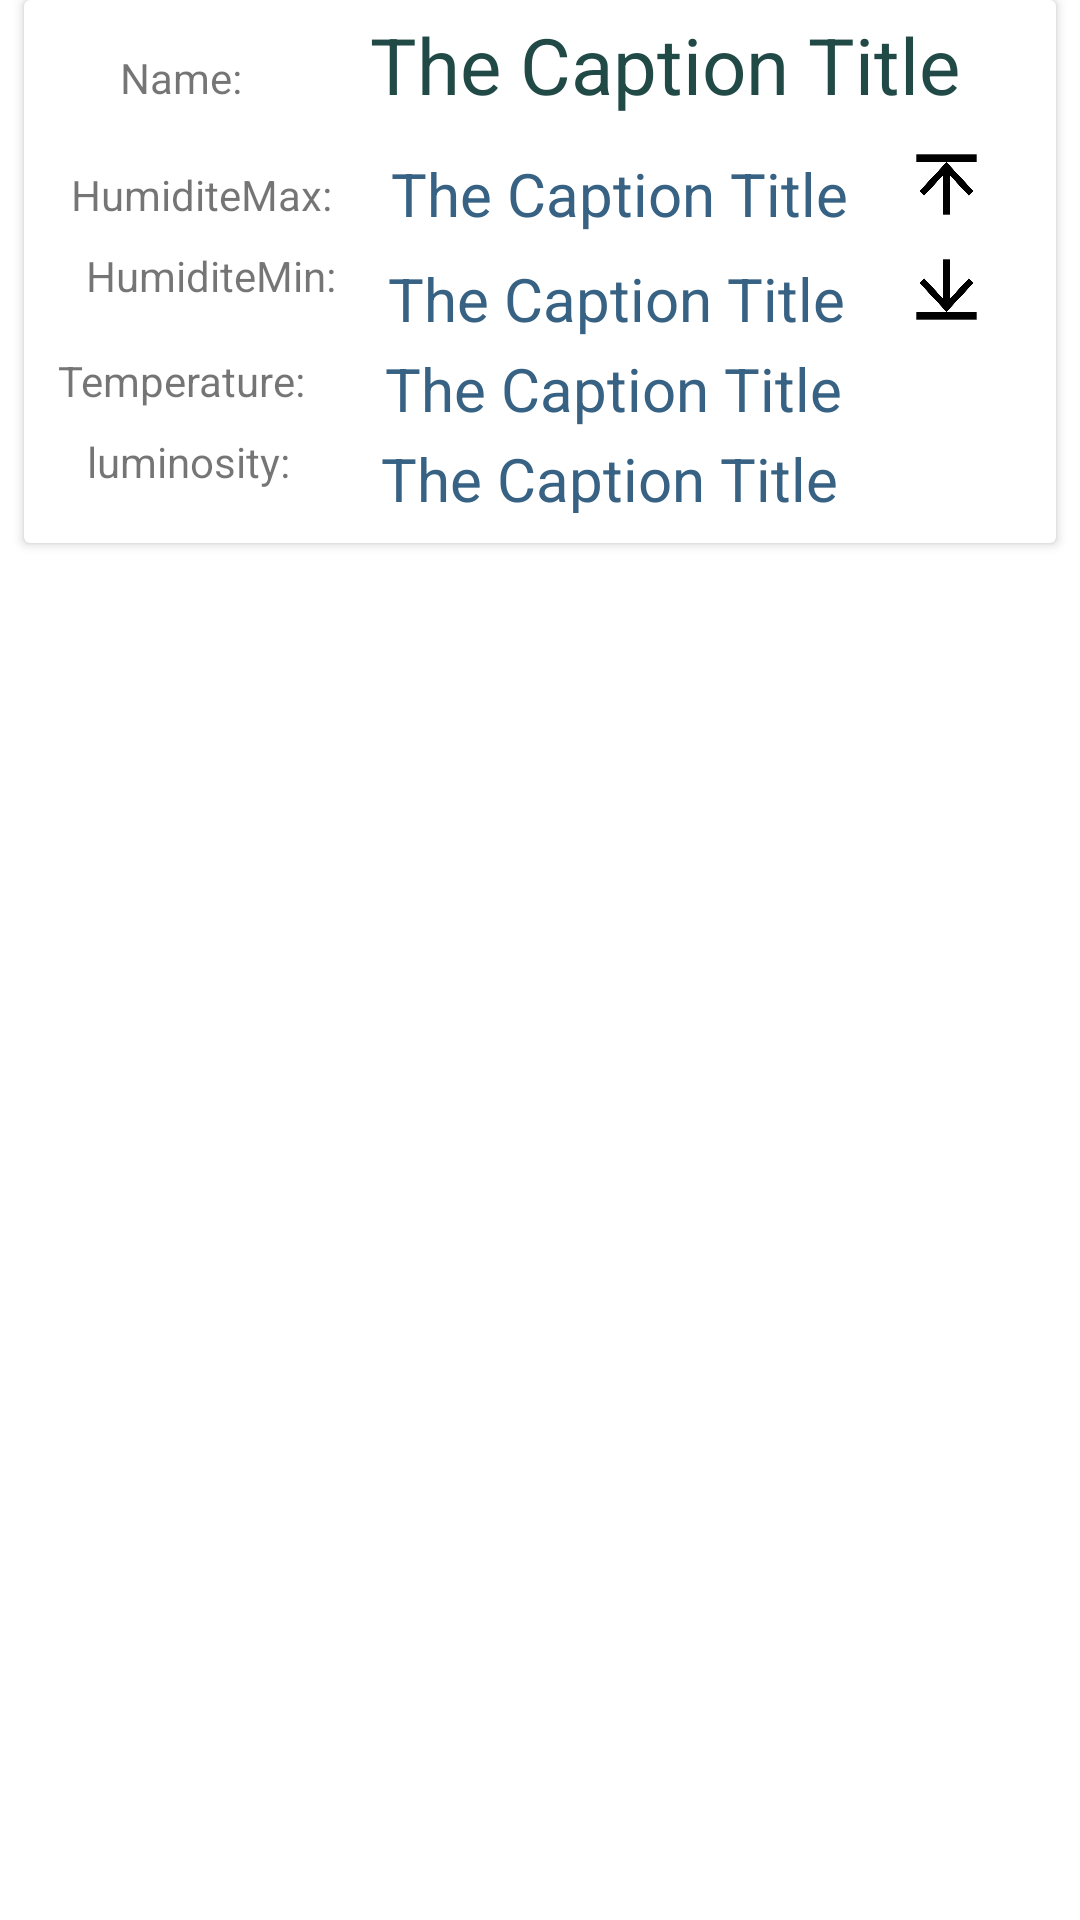

Screen size 1080 × 1920. Icon name, then its box in pixels as box(x1, y1, x2, y2):
max: box(916, 154, 977, 215)
